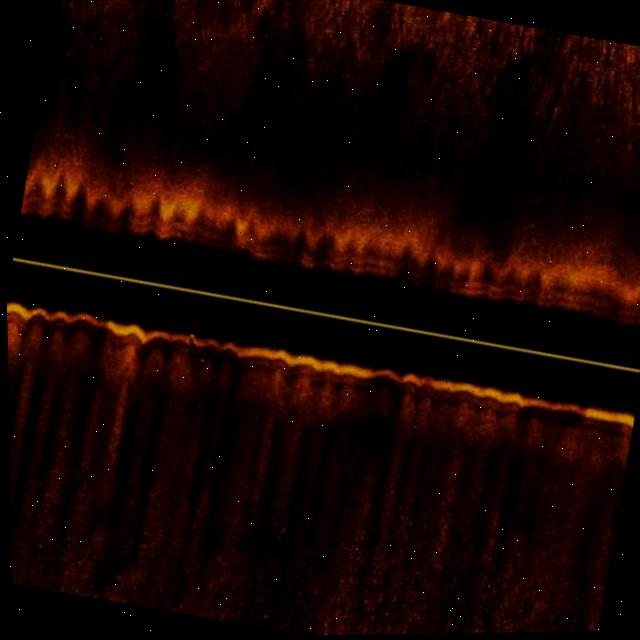mine: (269, 525, 287, 560), (183, 337, 206, 364)
